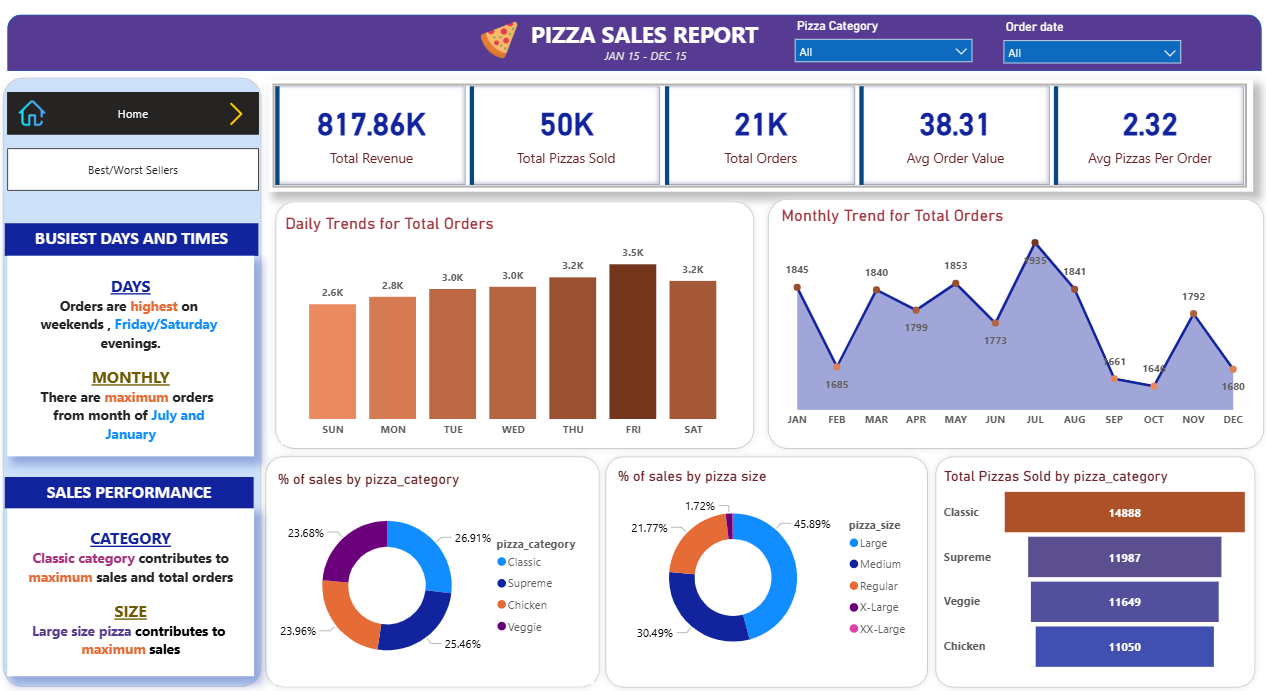

What the dashboard file says about the page in this screenshot:
{"tool":"powerbi","page":{"name":"Home","canvas":[1500,820],"ordinal":0},"visuals":[{"type":"shape","box":[0,87.2,320.2,733.1],"z":0},{"type":"cardVisual","fields":{"Data":["pizza_sales.Total Revenue","pizza_sales.Total Pizzas Sold","pizza_sales.Total Orders","pizza_sales.Avg Order Value","pizza_sales.Avg Pizzas Per Order"]},"box":[320.2,96.7,1158.3,132.2],"z":1000},{"type":"shape","box":[13.6,20.4,1475.7,66.8],"z":2000},{"type":"textbox","box":[619.1,20.9,287.8,51.5],"z":3000},{"type":"textbox","box":[707.5,54.7,114.2,32.2],"z":4000},{"type":"image","box":[564.4,14.5,54.7,72.4],"z":5000},{"type":"shape","box":[320.6,232.4,579.4,307.4],"z":6000},{"type":"columnChart","title":"Daily Trends for Total Orders","fields":{"Category":["pizza_sales.order day"],"Y":["pizza_sales.Total Orders"]},"box":[335.3,255.9,547.1,270.6],"z":7000},{"type":"shape","box":[900,229.4,600,310.3],"z":8000},{"type":"areaChart","title":"Monthly Trend for Total Orders","fields":{"Category":["pizza_sales.order month"],"Y":["pizza_sales.Total Orders"]},"box":[919.1,245.6,560.3,269.1],"z":9000},{"type":"shape","box":[309.3,532,409.3,288],"z":10000},{"type":"shape","box":[708.8,532.4,395.6,288.2],"z":11000},{"type":"textbox","box":[10.9,265.7,298.4,38.2],"z":12000},{"type":"shape","box":[1097.1,532.4,392.6,288.2],"z":13000},{"type":"donutChart","title":"% of sales by pizza_category","fields":{"Y":["pizza_sales.Total Revenue"],"Category":["pizza_sales.pizza_category"]},"box":[326.5,557.4,376.5,251.5],"z":14000},{"type":"donutChart","title":"% of sales by pizza size","fields":{"Y":["pizza_sales.Total Revenue"],"Category":["pizza_sales.pizza_size","pizza_sales.pizza_category"]},"box":[726.5,552.9,361.8,241.2],"z":15000},{"type":"funnel","fields":{"Category":["pizza_sales.pizza_category"],"Y":["pizza_sales.Total Pizzas Sold"]},"box":[1110.3,552.9,369.1,245.6],"z":16000},{"type":"textbox","box":[13.6,303.9,290.2,235.7],"z":17000},{"type":"textbox","box":[13.6,600.9,290.2,197.6],"z":18000},{"type":"textbox","box":[10.9,564.1,293,36.8],"z":19000},{"type":"slicer","fields":{"Values":["pizza_sales.pizza_category"]},"box":[929.3,20.4,228.9,66.8],"z":20000},{"type":"slicer","fields":{"Values":["pizza_sales.order_date","pizza_sales.pizza_category"]},"box":[1174.6,21.8,228.9,66.8],"z":21000},{"type":"pageNavigator","box":[13.3,112,296,50.7],"z":22000},{"type":"pageNavigator","box":[13.3,178.7,296,50.7],"z":23000},{"type":"image","box":[260,118.7,44,37.3],"z":24000},{"type":"image","box":[22.7,116,41.3,41.3],"z":24001}]}

Visuals, with their boxes in screenshot pixels (x1, y1, x2, y2), scaled from the page's 1500x820 canvas onto the 1266x691 screenshot:
shape: [left=0, top=73, right=270, bottom=690]
cardVisual - pizza_sales.Total Revenue x pizza_sales.Total Pizzas Sold: [left=270, top=81, right=1248, bottom=193]
shape: [left=11, top=17, right=1257, bottom=73]
textbox: [left=523, top=18, right=765, bottom=61]
textbox: [left=597, top=46, right=694, bottom=73]
image: [left=476, top=12, right=523, bottom=73]
shape: [left=271, top=196, right=760, bottom=455]
"Daily Trends for Total Orders" columnChart: [left=283, top=216, right=745, bottom=444]
shape: [left=760, top=193, right=1265, bottom=455]
"Monthly Trend for Total Orders" areaChart: [left=776, top=207, right=1249, bottom=434]
shape: [left=261, top=448, right=606, bottom=690]
shape: [left=598, top=449, right=932, bottom=690]
textbox: [left=9, top=224, right=261, bottom=256]
shape: [left=926, top=449, right=1257, bottom=690]
"% of sales by pizza_category" donutChart: [left=276, top=470, right=593, bottom=682]
"% of sales by pizza size" donutChart: [left=613, top=466, right=919, bottom=669]
funnel - pizza_sales.pizza_category x pizza_sales.Total Pizzas Sold: [left=937, top=466, right=1249, bottom=673]
textbox: [left=11, top=256, right=256, bottom=455]
textbox: [left=11, top=506, right=256, bottom=673]
textbox: [left=9, top=475, right=256, bottom=506]
slicer - pizza_sales.pizza_category: [left=784, top=17, right=978, bottom=73]
slicer - pizza_sales.order_date x pizza_sales.pizza_category: [left=991, top=18, right=1185, bottom=75]
pageNavigator: [left=11, top=94, right=261, bottom=137]
pageNavigator: [left=11, top=151, right=261, bottom=193]
image: [left=219, top=100, right=257, bottom=131]
image: [left=19, top=98, right=54, bottom=133]
